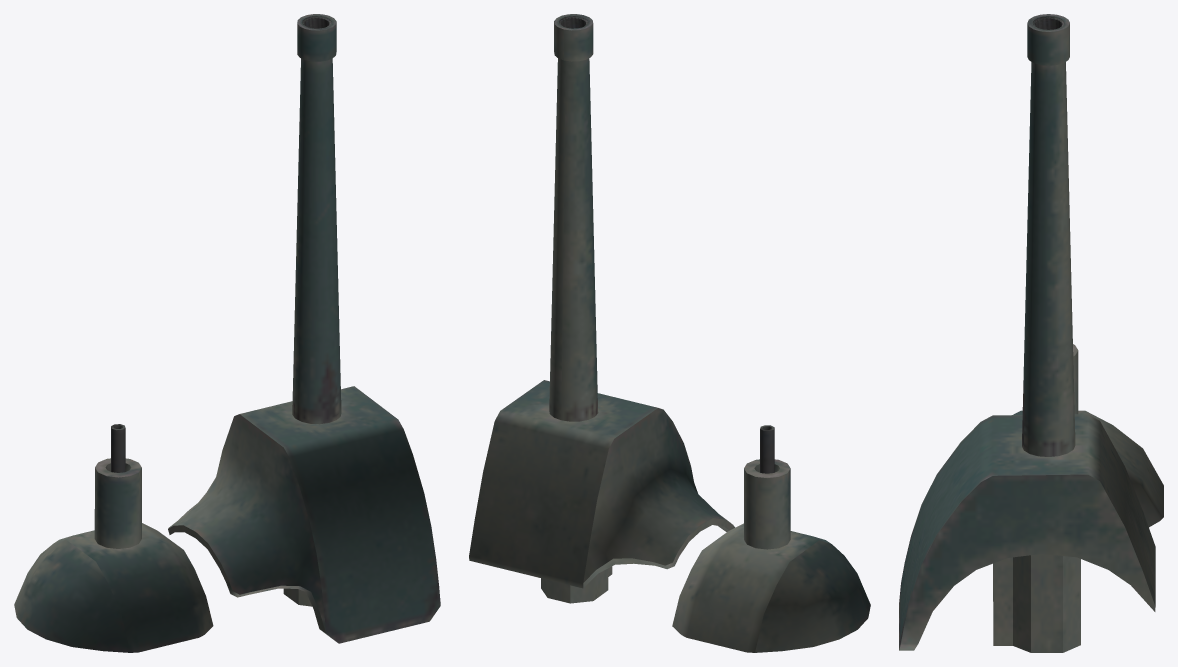
Rendered from Gun_08.glb.
3 renders of one model, left to right at view 1: azimuth 30°, elevation 25°; view 2: azimuth 150°, elevation 25°; view 3: azimuth 270°, elevation 25°, orthographic. The views are drawn at different scales.
Visible parts, largest first — view 1: set_0_group_0; view 2: set_0_group_0; view 3: set_0_group_0.
Boxes of the visible parts, bbox=[...] form: set_0_group_0: bbox=[14, 14, 440, 652]; set_0_group_0: bbox=[469, 14, 870, 652]; set_0_group_0: bbox=[899, 14, 1163, 652].
Size of the model in its own units: 0.735 by 1.17 by 0.4546.
Materials: 1 (1 with a texture image).
